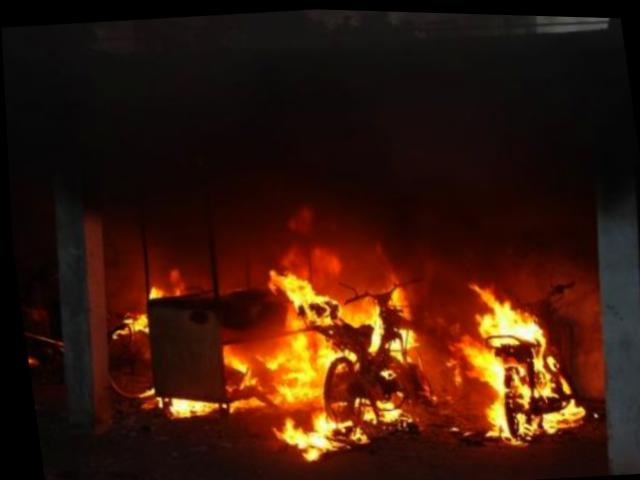fire: (108, 201, 585, 477)
